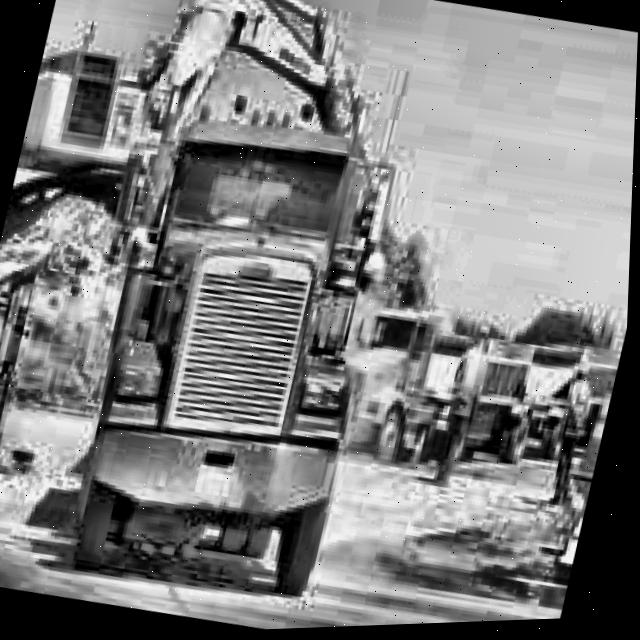dump_truck: (38, 67, 428, 604), (338, 279, 631, 506)
excavator: (9, 0, 447, 276)
